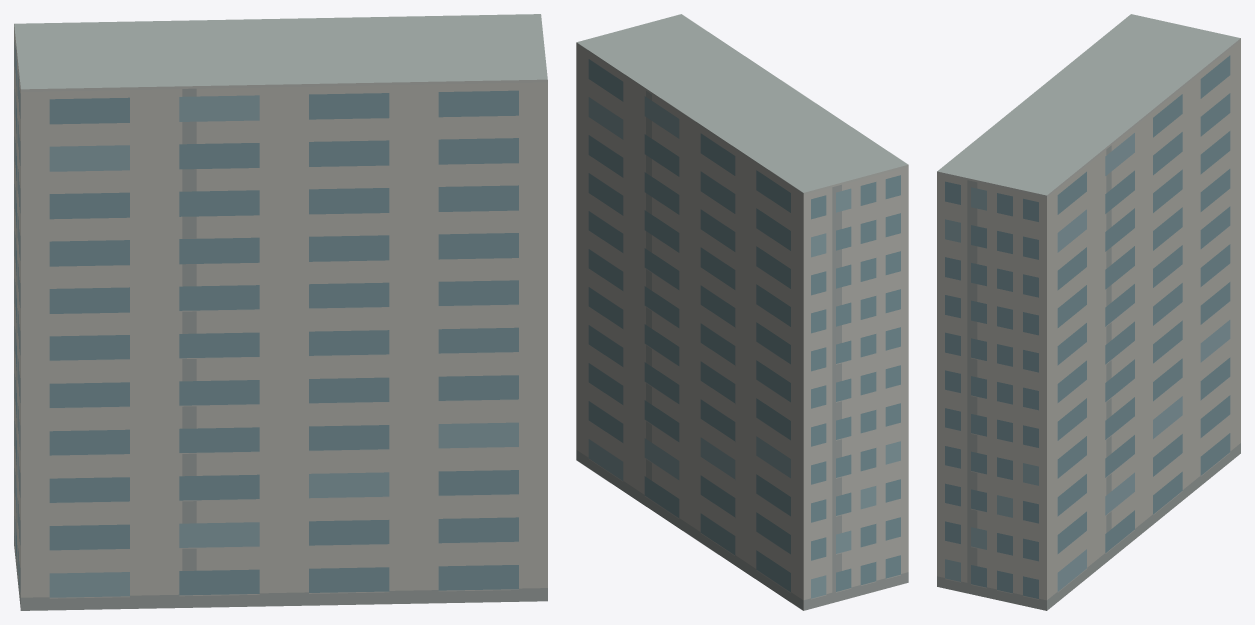
Rendered from residential-b23e4899-d2e8-42a3-bb56-303e9accd10b.glb.
The picture shows the model from 3 angles, left to right: view 1: azimuth 30°, elevation 25°; view 2: azimuth 150°, elevation 25°; view 3: azimuth 270°, elevation 25°; orthographic projection. The views are drawn at different scales.
Visible parts, largest first — view 1: residential-b23e4899-d2e8-42a3-bb56-303e9accd10b.tmp; view 2: residential-b23e4899-d2e8-42a3-bb56-303e9accd10b.tmp; view 3: residential-b23e4899-d2e8-42a3-bb56-303e9accd10b.tmp.
Part boxes in pixels (x1=…): residential-b23e4899-d2e8-42a3-bb56-303e9accd10b.tmp: x1=14, y1=14, x2=547, y2=610; residential-b23e4899-d2e8-42a3-bb56-303e9accd10b.tmp: x1=576, y1=14, x2=908, y2=610; residential-b23e4899-d2e8-42a3-bb56-303e9accd10b.tmp: x1=937, y1=14, x2=1240, y2=610.
Size of the model in its own units: 45.95 by 49 by 32.48.
